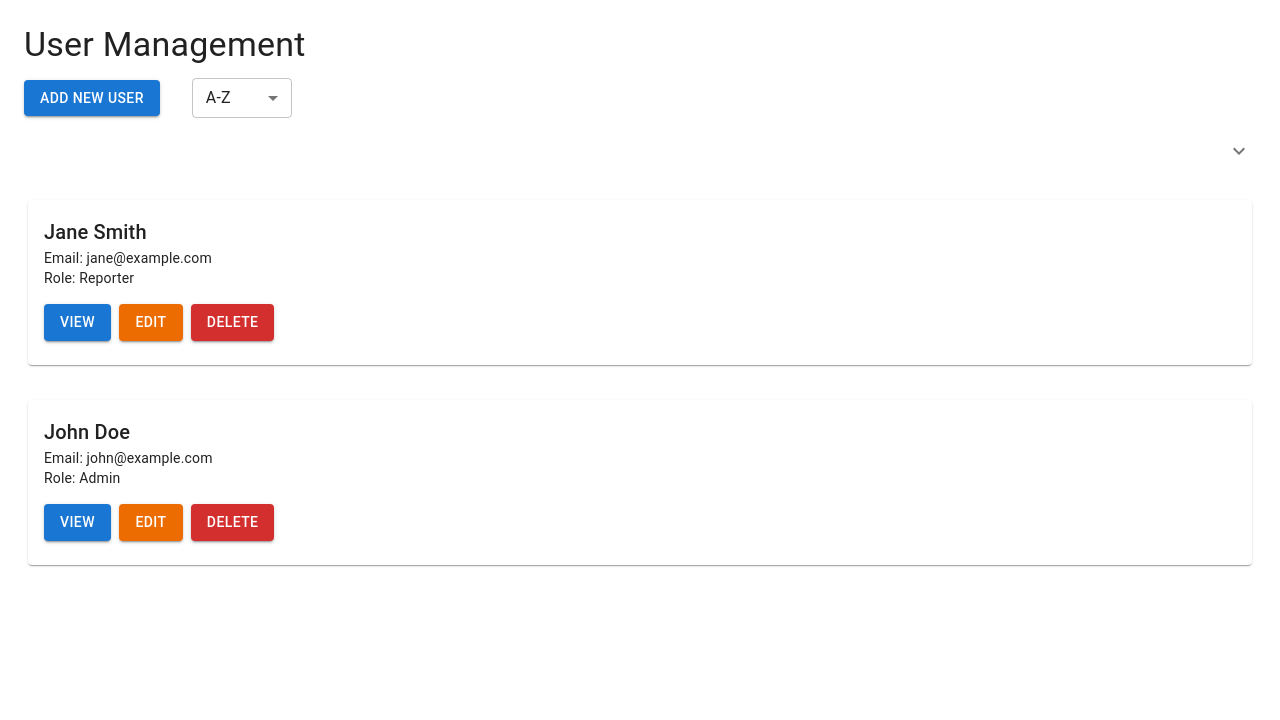
it: Users Component › handles user deletion
Click the button with test id "delete-user-1".
click(233, 522)  # box [191,504,274,540]
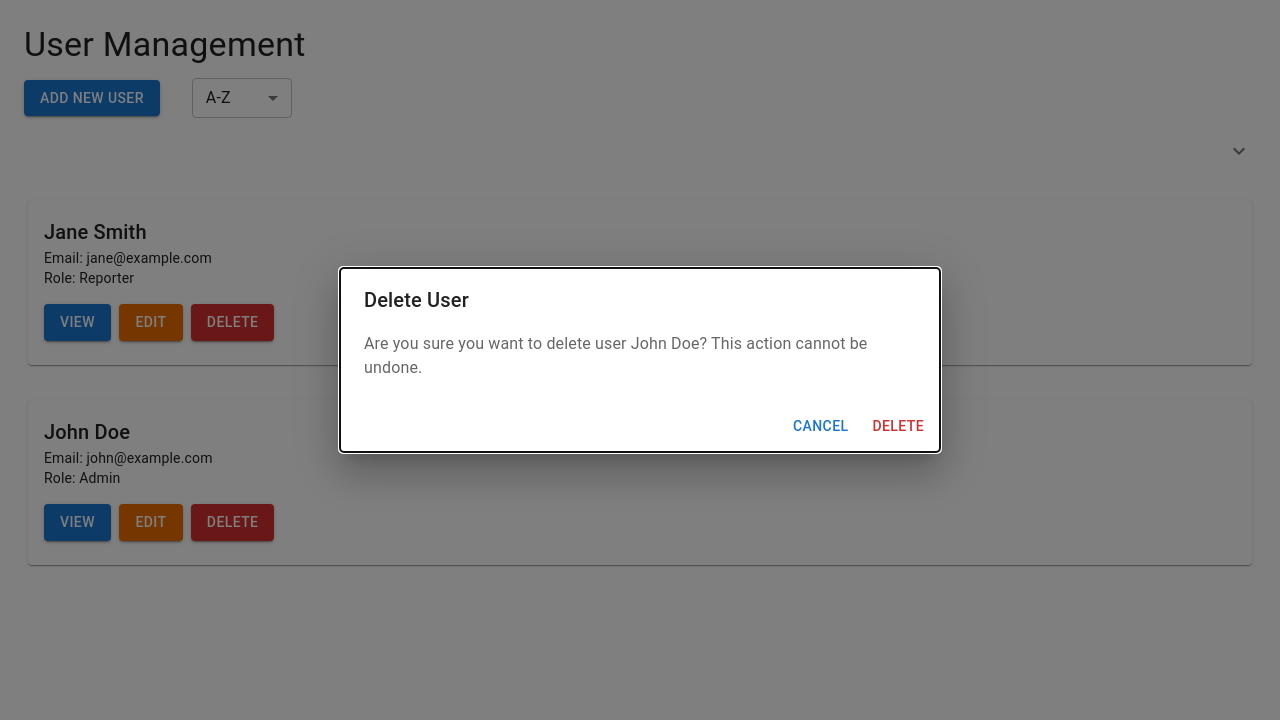
Check: the text "Are you sure you want to delete user" is shown, box [364,334,867,377]
Click confirm button in dialog
Click the button with test id "confirm-delete-button".
click(898, 426)  # box [864,408,932,444]
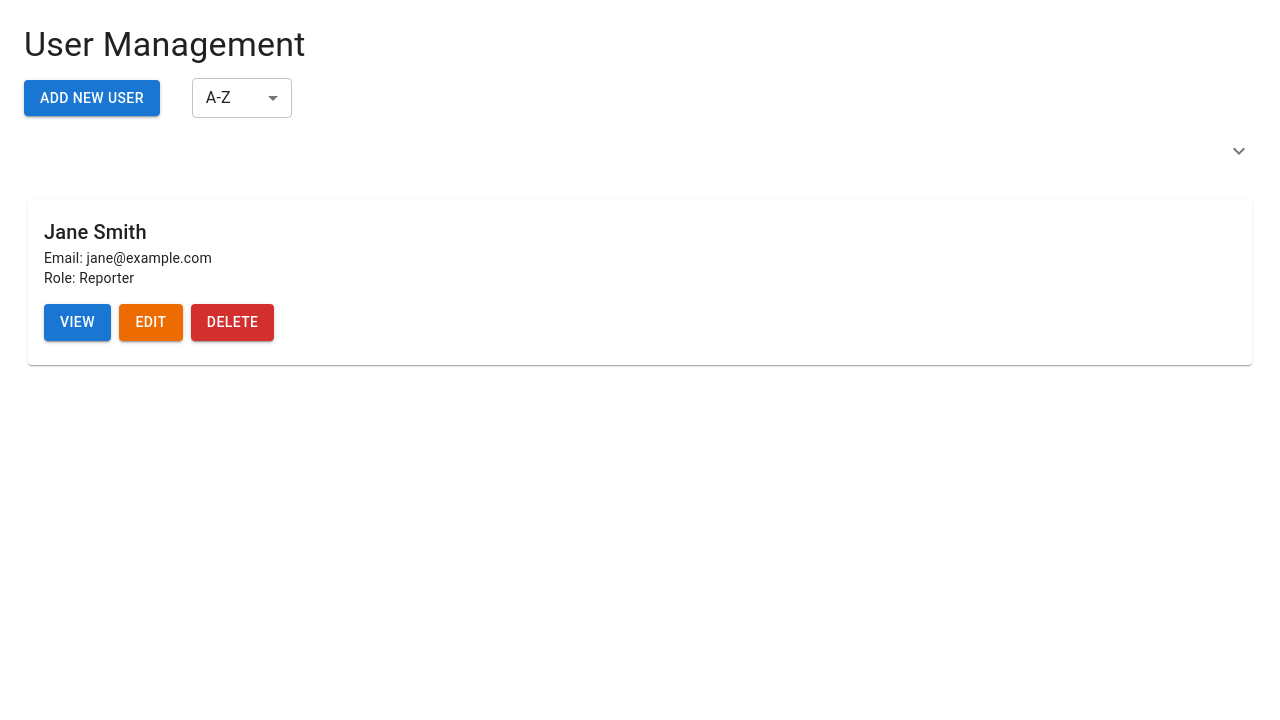
Check: the heading "John Doe" is gone
